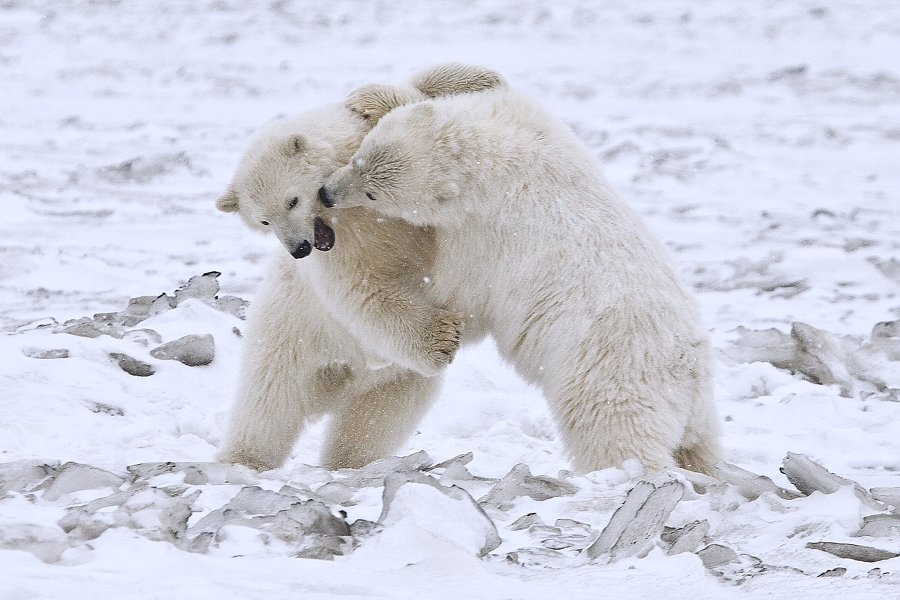Polar Bear: (320, 128, 774, 464), (171, 29, 380, 479)
